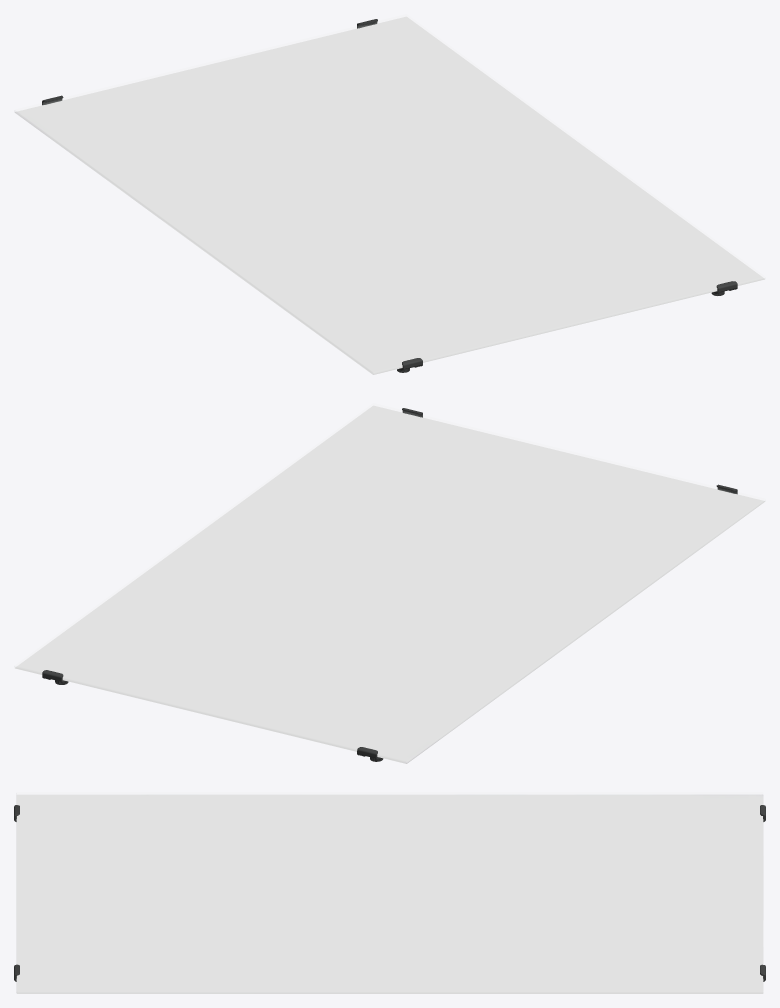
File: 80556401-mini.glb
3 renders of one model, top to bottom at view 1: azimuth 30°, elevation 25°; view 2: azimuth 150°, elevation 25°; view 3: azimuth 270°, elevation 25°, orthographic. The views are drawn at different scales.
Parts seen in each view (by area): view 1: 80556401-LETTAN001; view 2: 80556401-LETTAN001; view 3: 80556401-LETTAN001.
Boxes of the visible parts, bbox=[...] form: 80556401-LETTAN001: bbox=[14, 16, 764, 374]; 80556401-LETTAN001: bbox=[15, 405, 765, 763]; 80556401-LETTAN001: bbox=[14, 794, 765, 993].
Size of the model in its own units: 0.6 by 0.0229 by 0.955.
2 materials, 1 textured.
